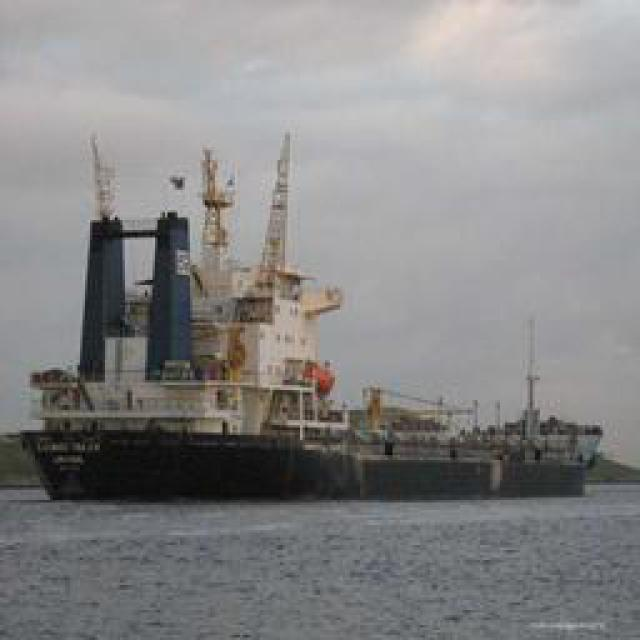Ship: (31, 126, 376, 499)
